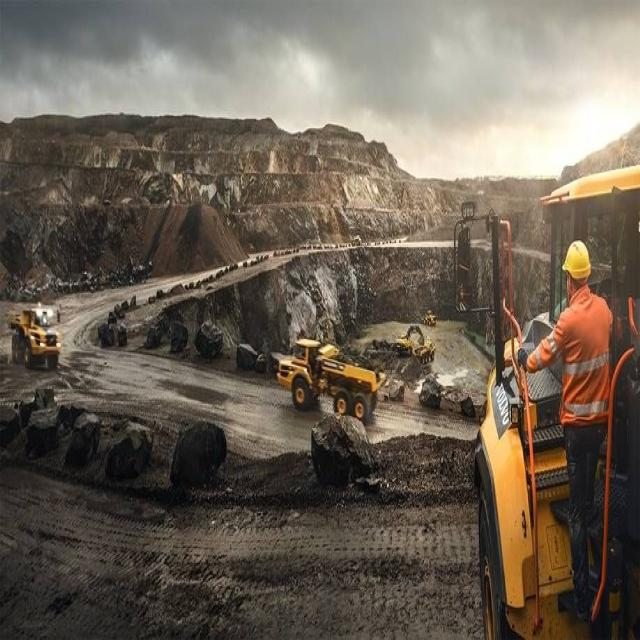dump_truck: (268, 331, 385, 431), (3, 297, 66, 365)
